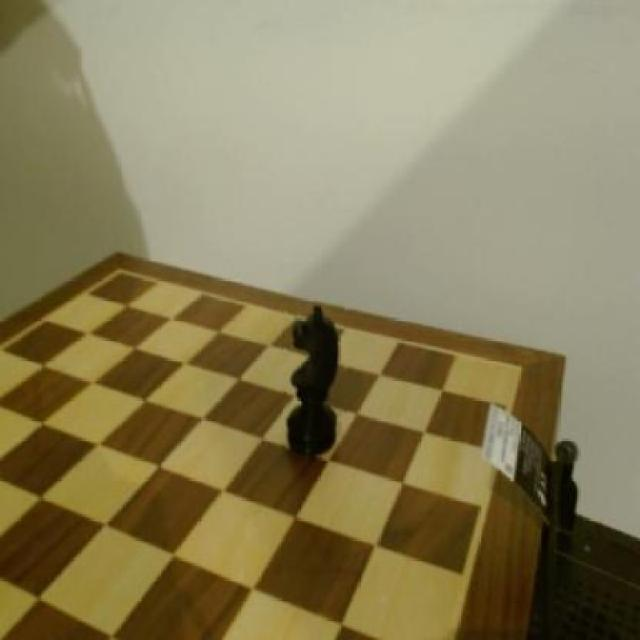black-king: (281, 298, 347, 460)
